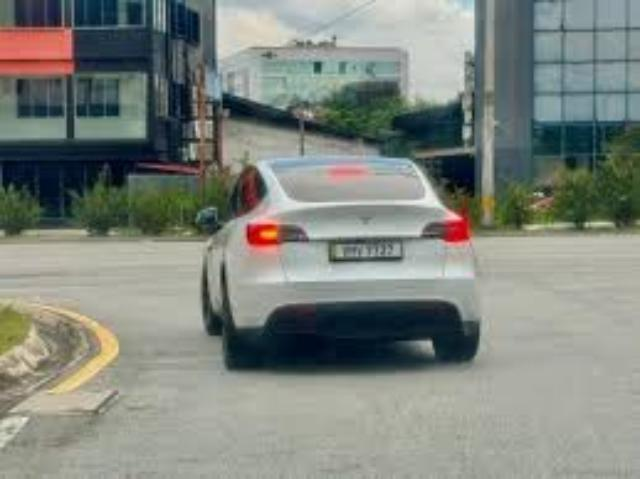License_Plate: (330, 232, 406, 264)
car: (192, 156, 487, 370)
